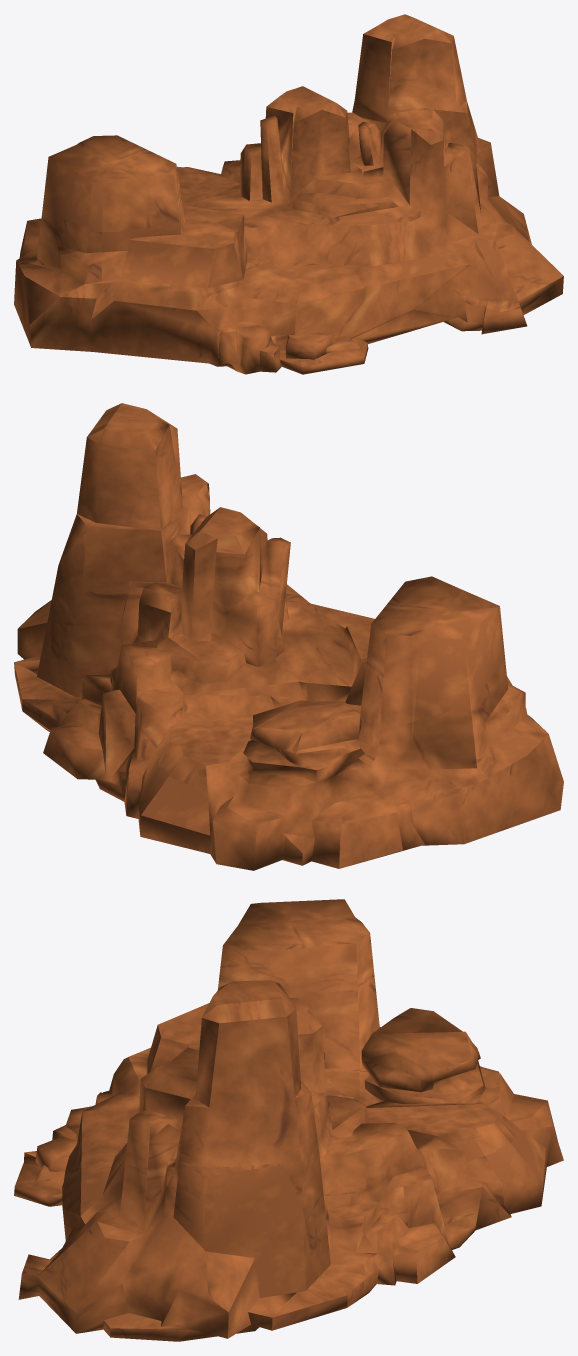
File: rock13.fbx
3 views of the same model, one above another, from view 1: azimuth 30°, elevation 25°; view 2: azimuth 150°, elevation 25°; view 3: azimuth 270°, elevation 25° (orthographic). The views are drawn at different scales.
Parts seen in each view (by area): view 1: 13; view 2: 13; view 3: 13.
Boxes of the visible parts, box(x1,y1,x2,y2) form: 13: box(14, 14, 563, 374); 13: box(14, 403, 563, 870); 13: box(14, 899, 563, 1341).
Size of the model in its own units: 104 by 51.12 by 83.91.
1 material, 1 textured.
